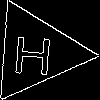H: (11, 27, 55, 76)
